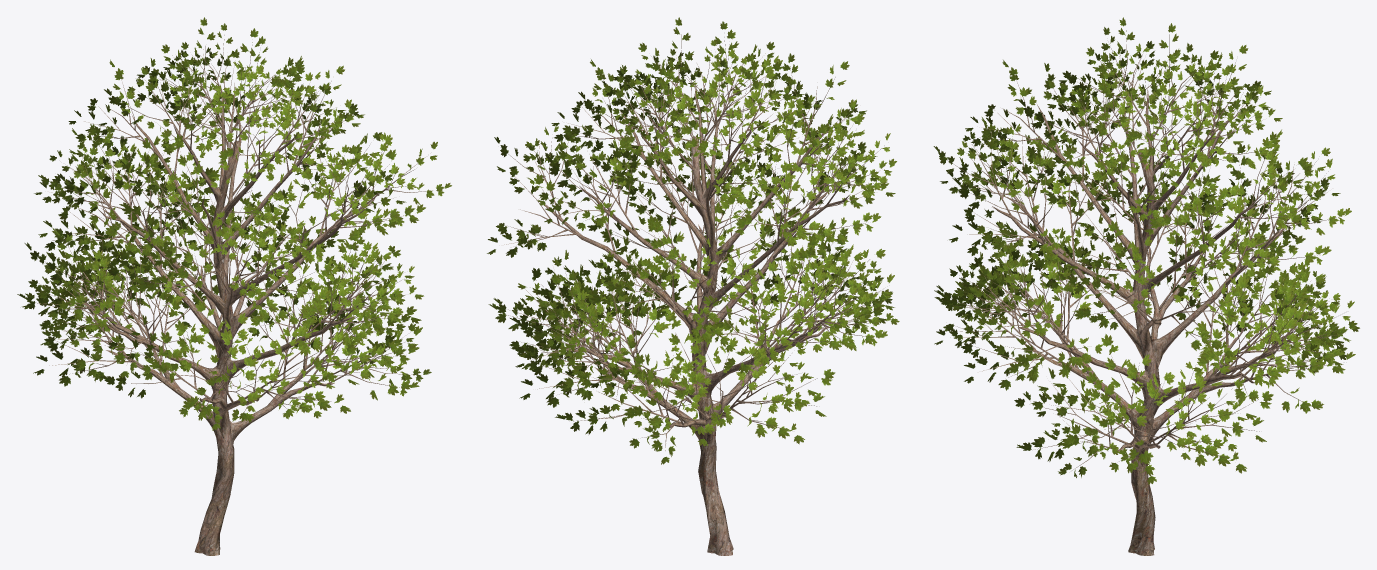
The model's file is maple trees.fbx.
3 renders of one model, left to right at view 1: azimuth 30°, elevation 25°; view 2: azimuth 150°, elevation 25°; view 3: azimuth 270°, elevation 25°, orthographic. The views are drawn at different scales.
Parts seen in each view (by area): view 1: Tree_1, Tree_0; view 2: Tree_1, Tree_0; view 3: Tree_1, Tree_0.
Boxes of the visible parts, bbox=[...] form: Tree_1: bbox=[17, 17, 451, 430]; Tree_0: bbox=[36, 35, 436, 555]; Tree_1: bbox=[487, 17, 899, 464]; Tree_0: bbox=[502, 34, 884, 555]; Tree_1: bbox=[933, 17, 1359, 485]; Tree_0: bbox=[947, 30, 1340, 555].
Bounding box in the file's own units: 485 × 578 × 442.
2 materials, 2 textured.
